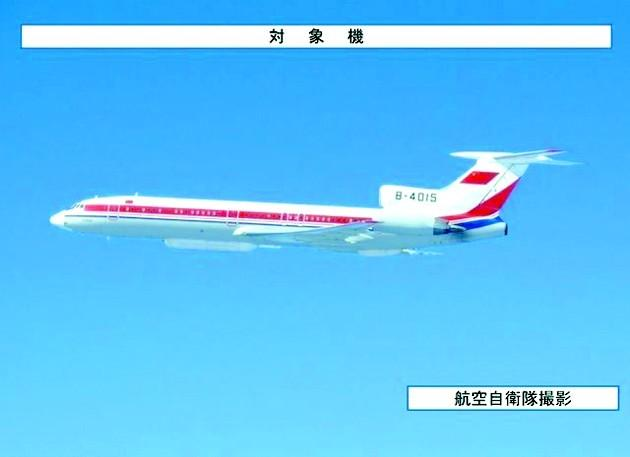airplane: (46, 146, 586, 253)
